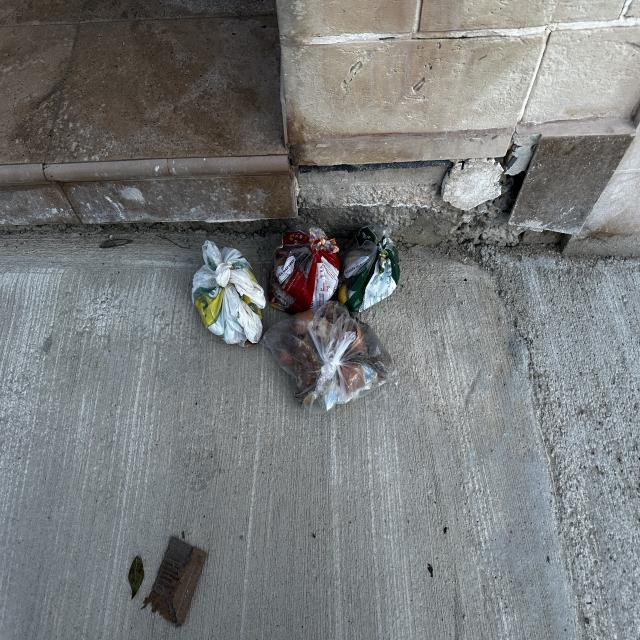Organic Waste -White Bags-: (261, 300, 399, 413)
Others Waste: (267, 223, 401, 316), (192, 241, 266, 348)
